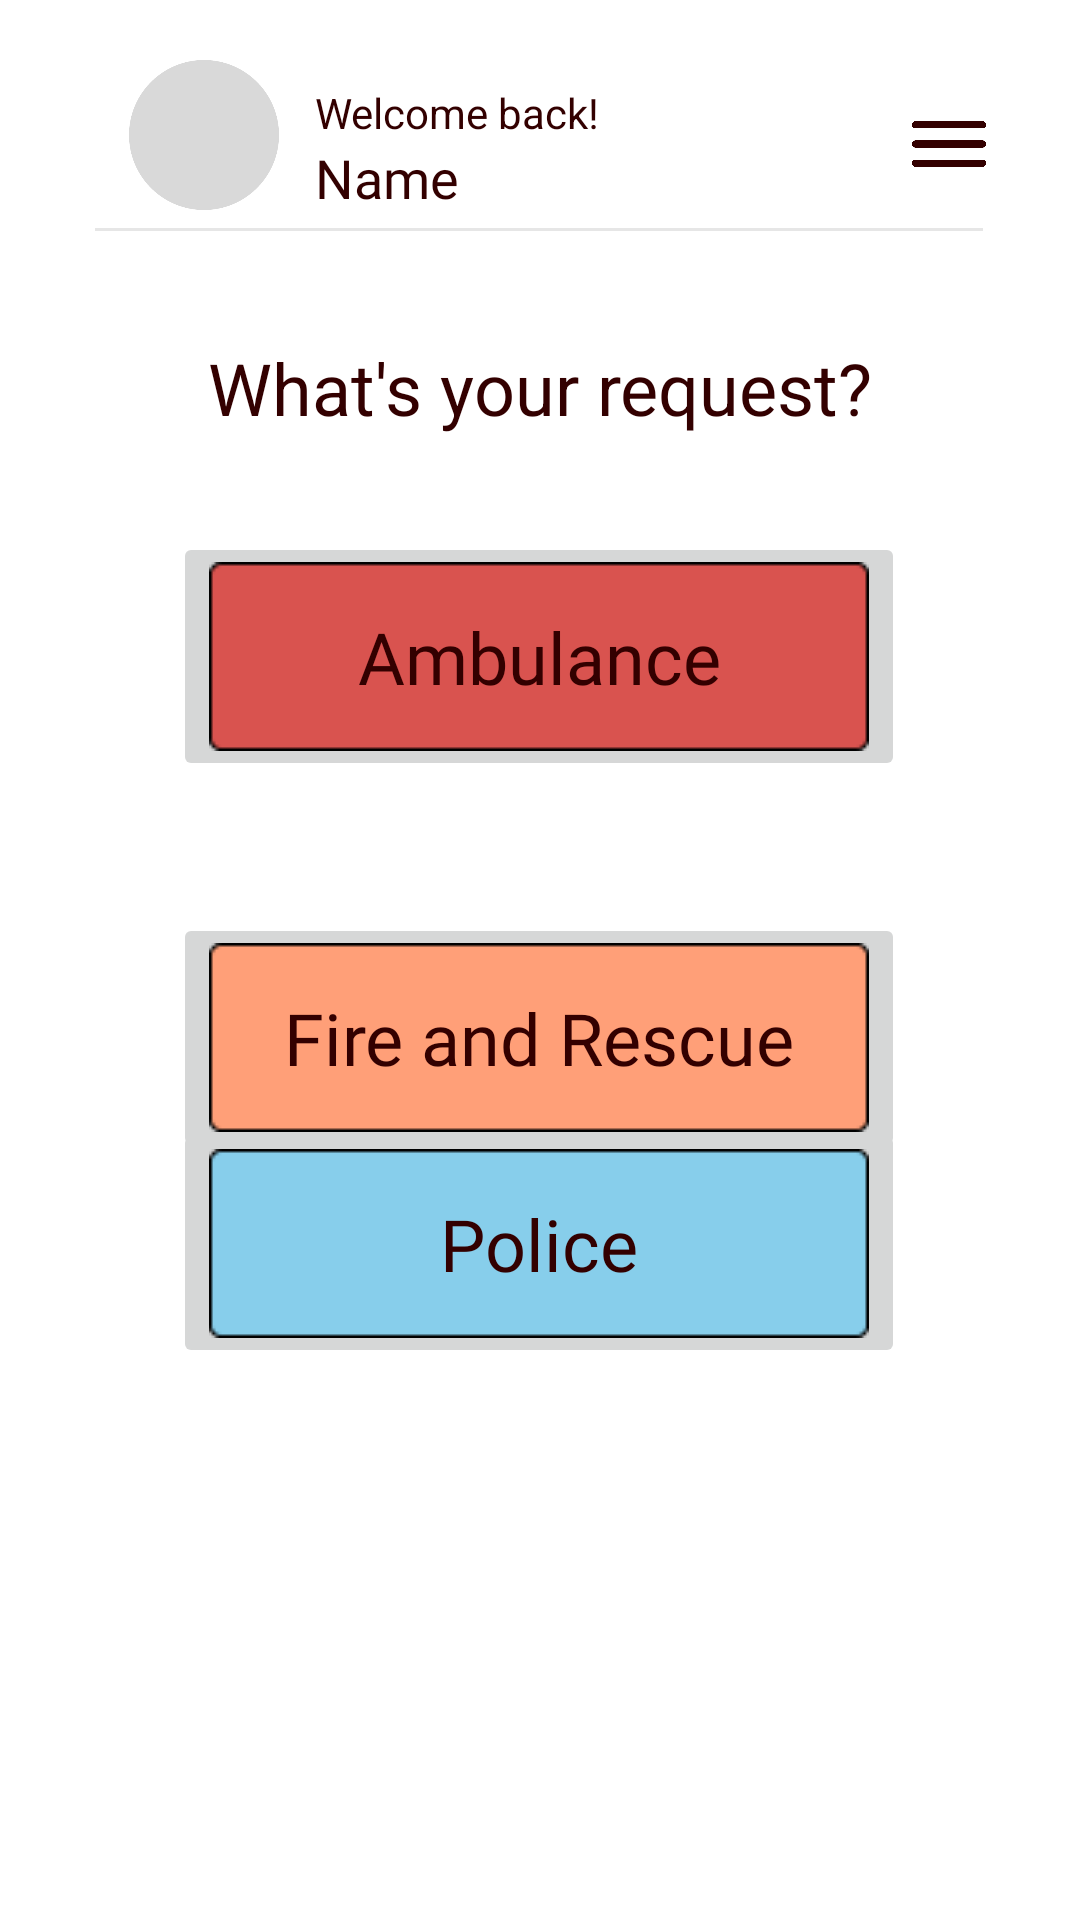

Named icons in this screenshot (1080x1920) and their centers, point (x, y):
burger: point (949, 144)
